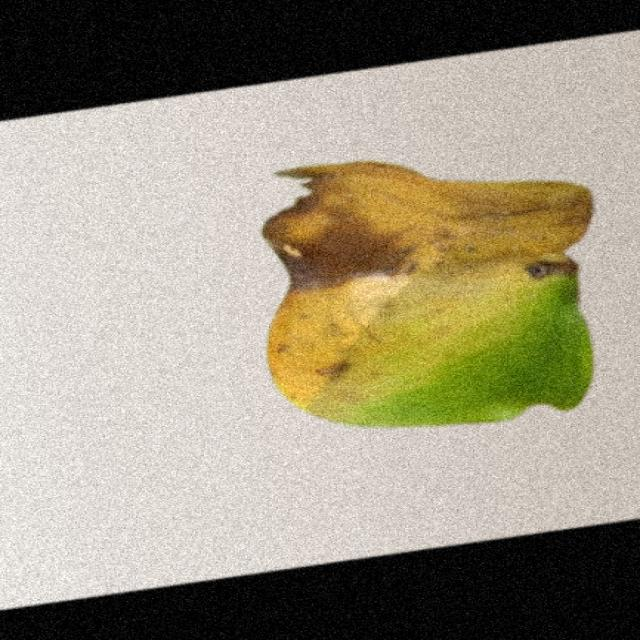daun berpenyakit kuning: (263, 161, 591, 426)
